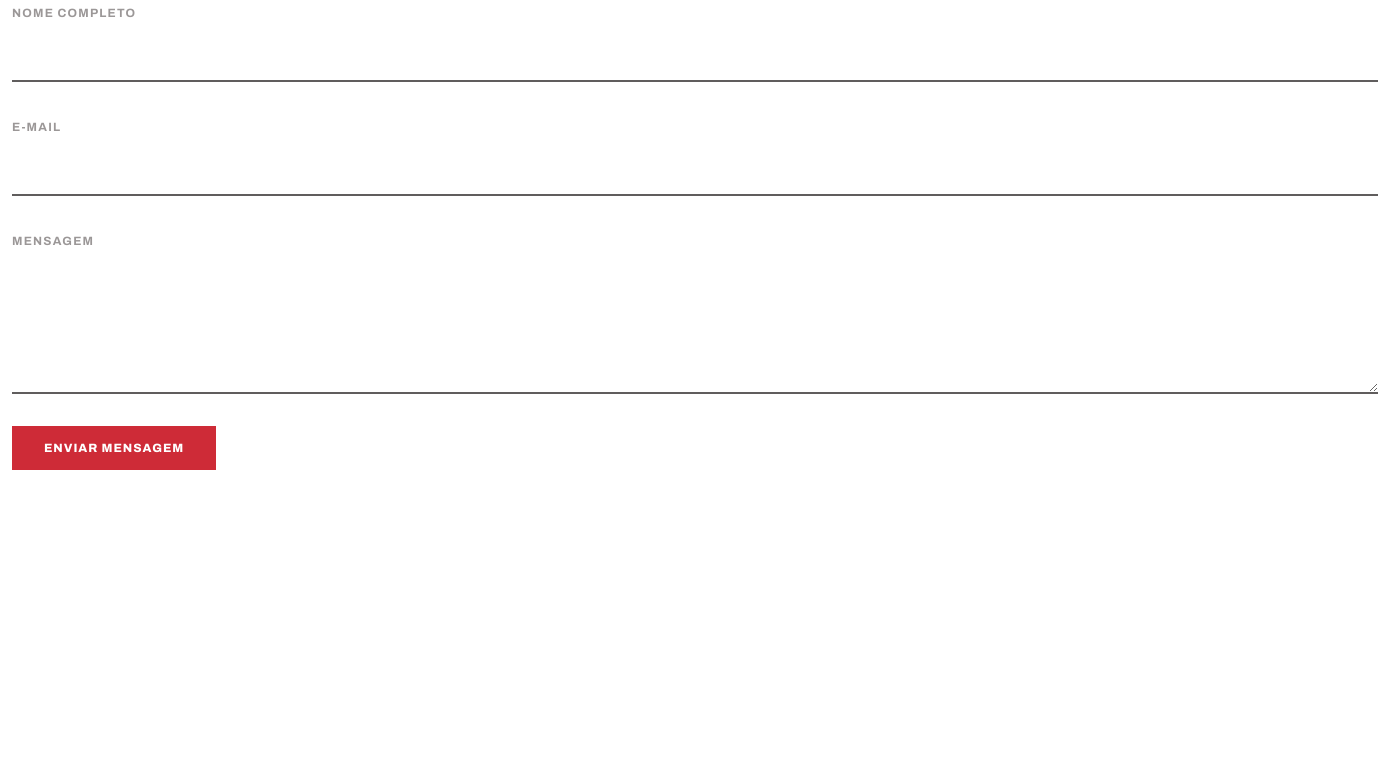
Test: ContactForm › mostra erros para os campos obrigatórios ao submeter vazio
Click the button "Enviar mensagem Enviar mensagem": coordinates (114, 448) x1=12 y1=426 x2=216 y2=470
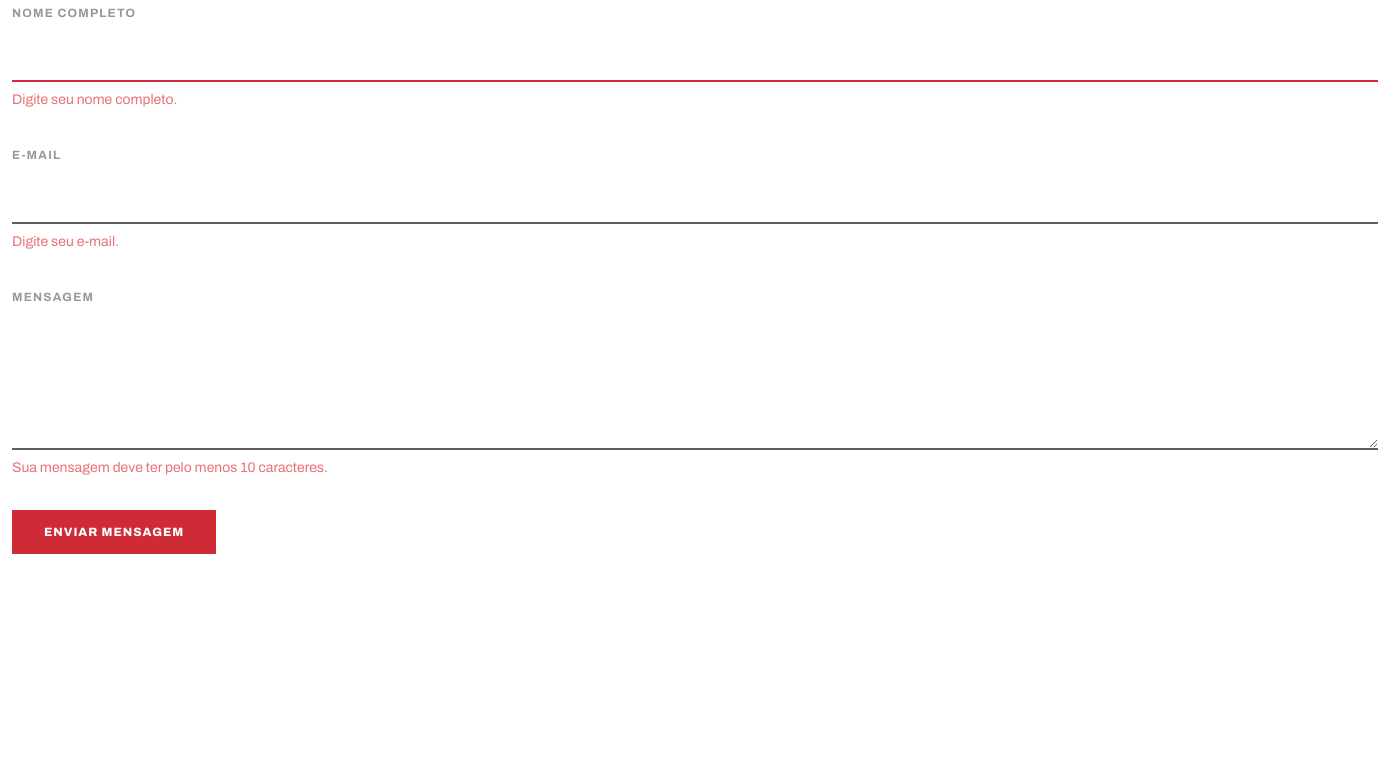
Expected: the text "Digite seu nome completo." is shown, x1=12 y1=92 x2=177 y2=107
Expected: the text "Digite seu e-mail." is shown, x1=12 y1=234 x2=119 y2=249
Expected: the text "Sua mensagem deve ter pelo menos 10 caracteres." is shown, x1=12 y1=460 x2=328 y2=475
